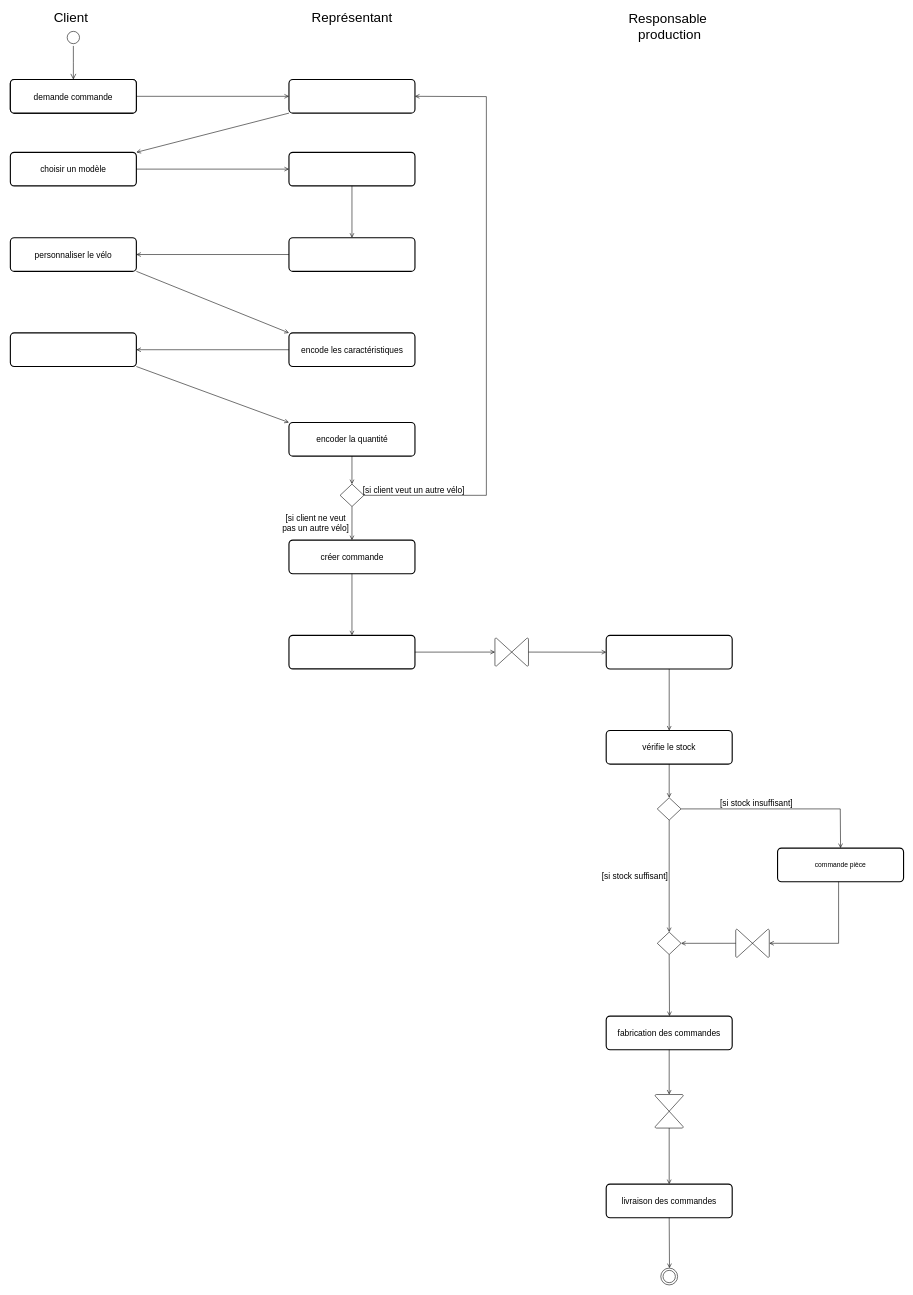
Some shapes in this 913 by 1295 pixel diagram are drawn without their labels. Each missing label, with the centre of its shape:
choisir la quantité de vélo: (x=73, y=349)
encode le modèle: (x=351, y=168)
enregistre le client: (x=351, y=651)
estimation livraison: (x=351, y=254)
montre catalogue: (x=351, y=96)
planifier la date de livraison: (x=668, y=652)
